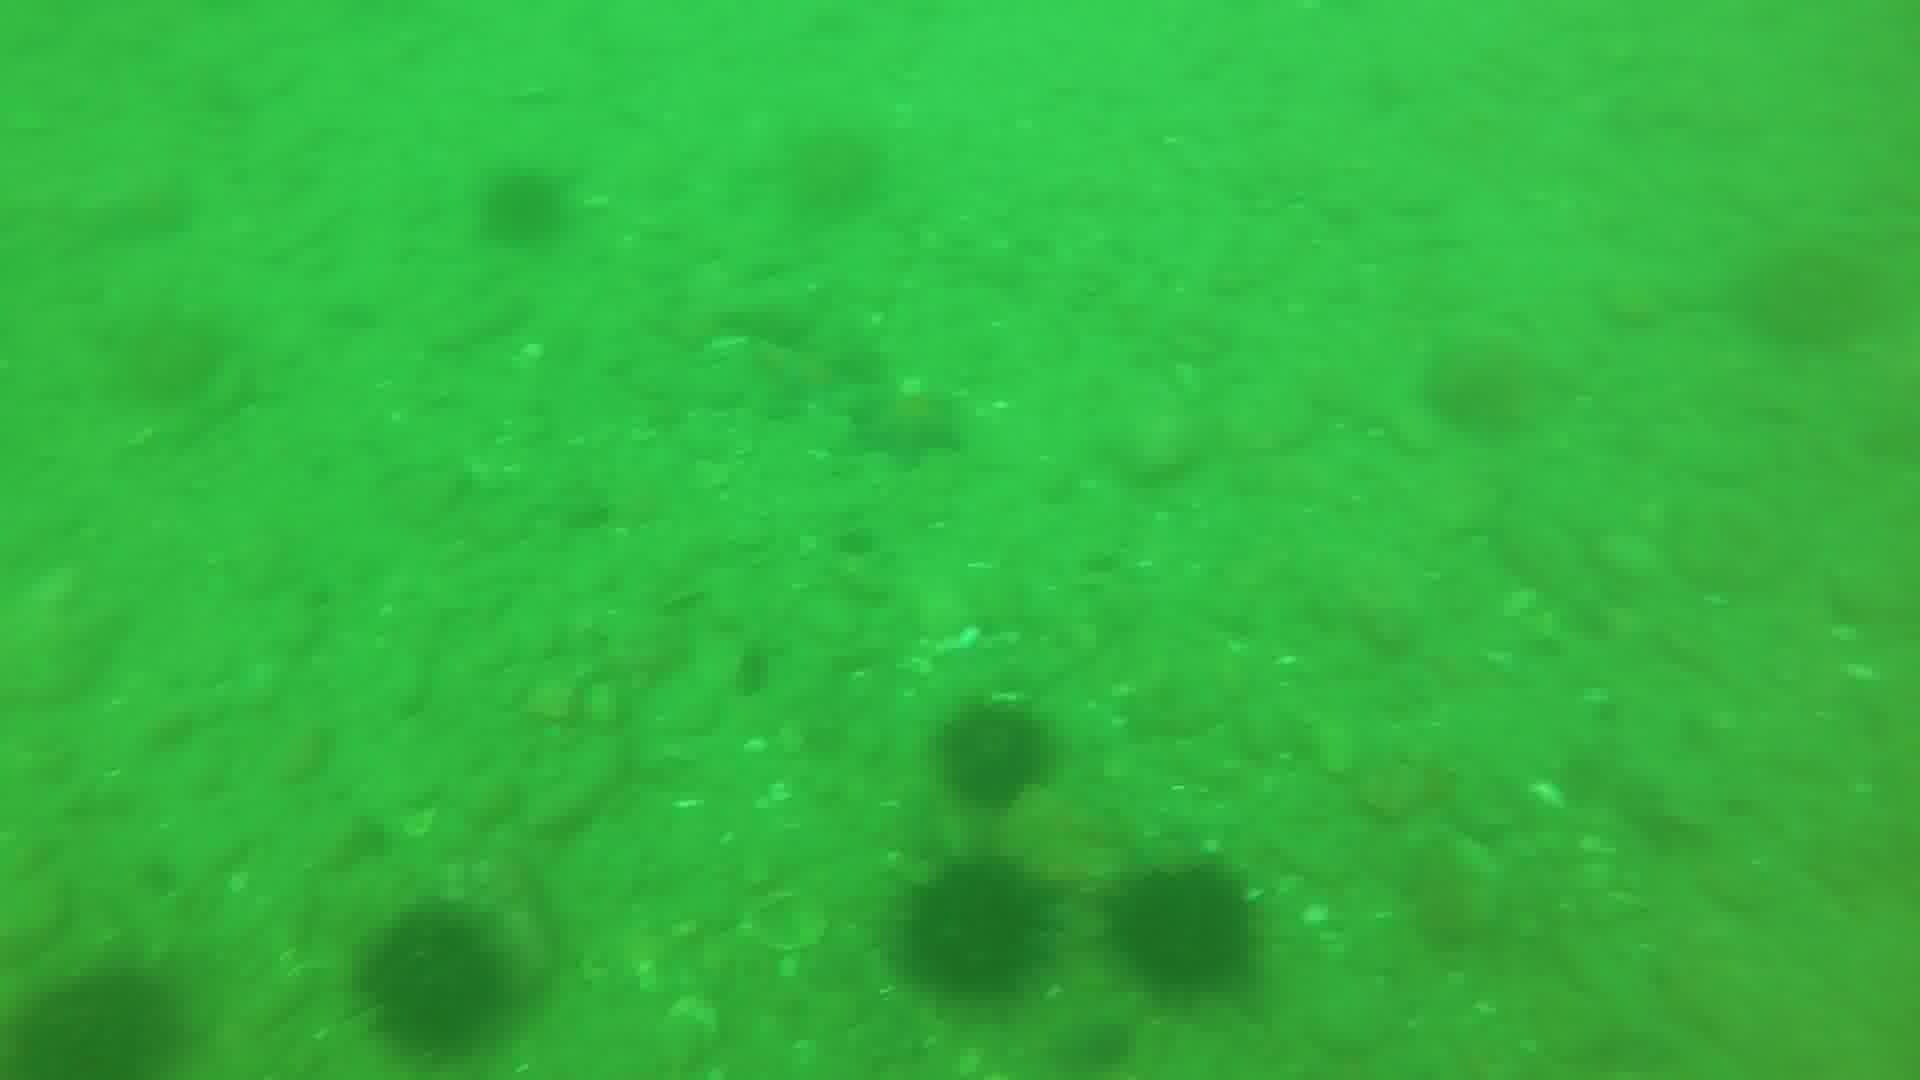echinus: (873, 852, 1068, 1005), (349, 895, 513, 1065), (1122, 861, 1249, 1000), (17, 967, 162, 1080), (938, 705, 1048, 820), (483, 166, 560, 247)
scallop: (731, 890, 829, 951)
starfish: (852, 390, 963, 468)
